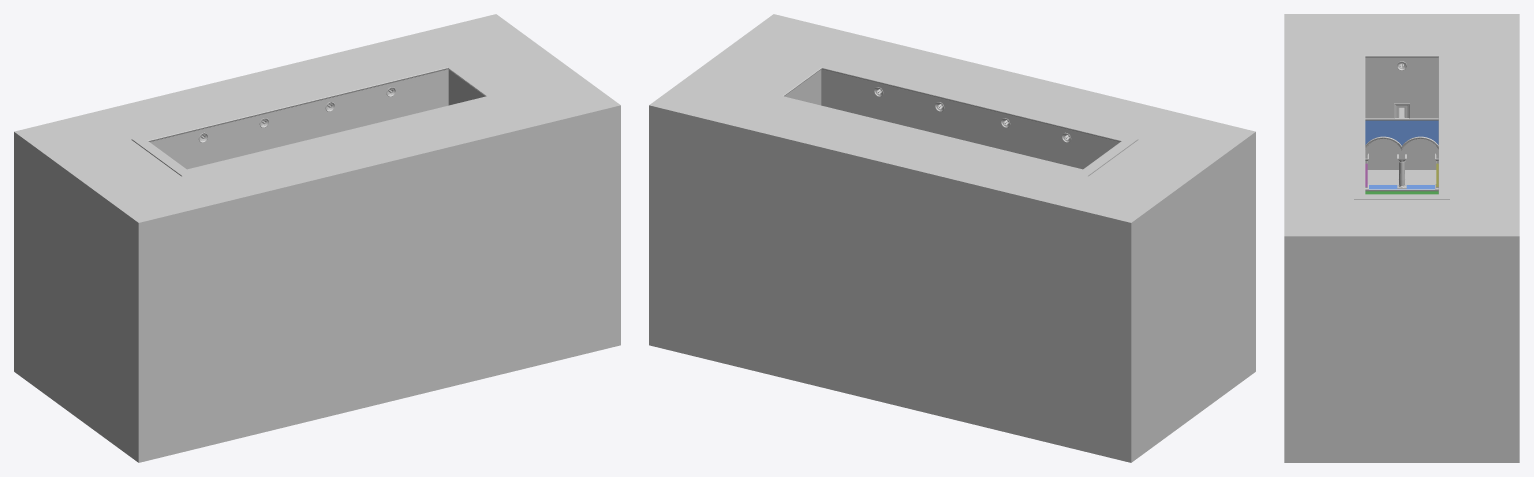
The model's file is sponza2.fbx.
3 renders of one model, left to right at view 1: azimuth 30°, elevation 25°; view 2: azimuth 150°, elevation 25°; view 3: azimuth 270°, elevation 25°, orthographic. The views are drawn at different scales.
Visible parts, largest first — view 1: sponza:arcs_floor1; view 2: sponza:arcs_floor1; view 3: sponza:arcs_floor1.
Part boxes in pixels (left/top/right/bottom): sponza:arcs_floor1: left=14, top=14, right=620, bottom=462; sponza:arcs_floor1: left=649, top=14, right=1255, bottom=462; sponza:arcs_floor1: left=1284, top=14, right=1519, bottom=462.
Bounding box in the file's own units: 34.82 × 16.56 × 15.6.
